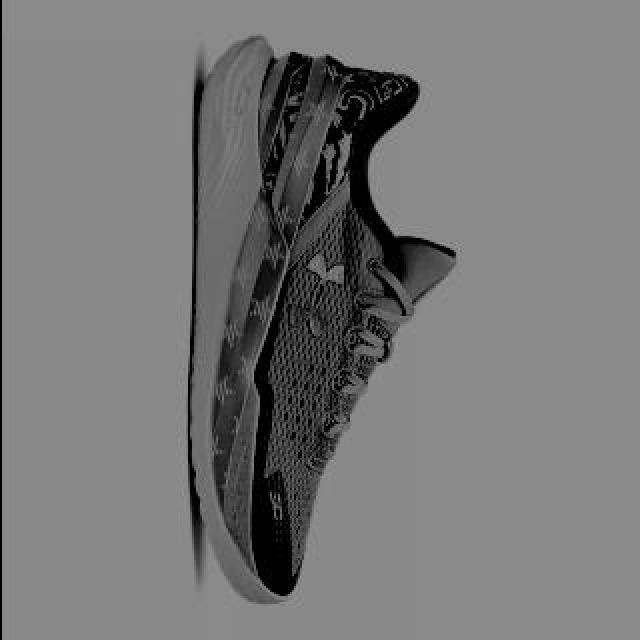shoe: (189, 31, 457, 607)
